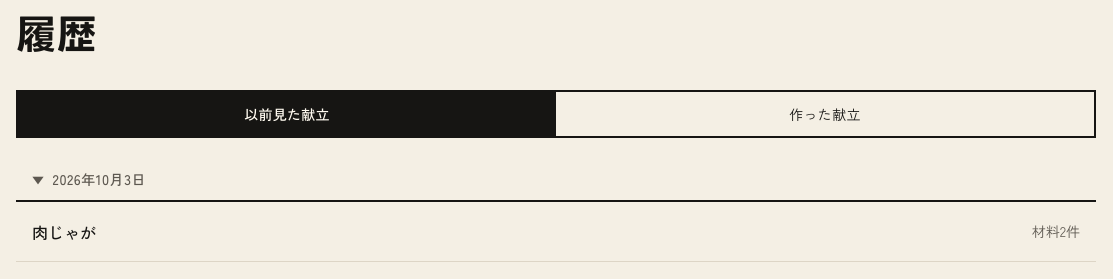
Test: 履歴タブ HistoryTab › 作った側に切り替えると、作った献立の行を出す
Click the button "作った献立" at (825, 114), box x1=556 y1=92 x2=1094 y2=136
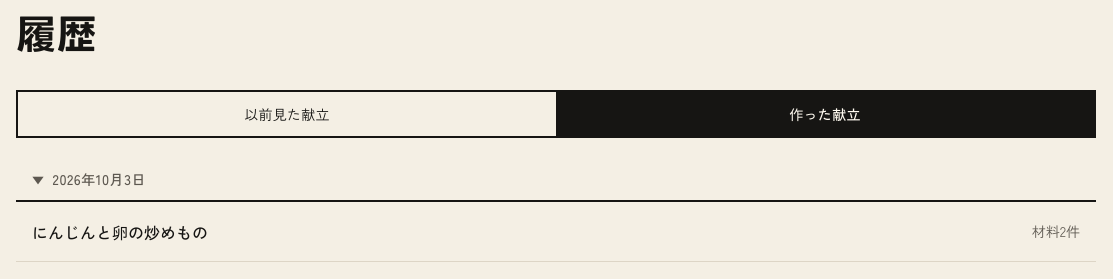
Expected: the text "にんじんと卵の炒めもの" is shown, x1=32 y1=220 x2=208 y2=244
